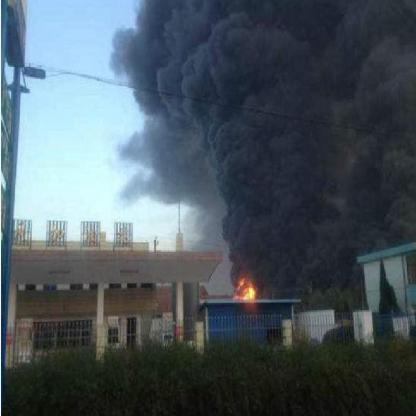fire: (228, 267, 262, 315)
smoke: (110, 2, 414, 271)
